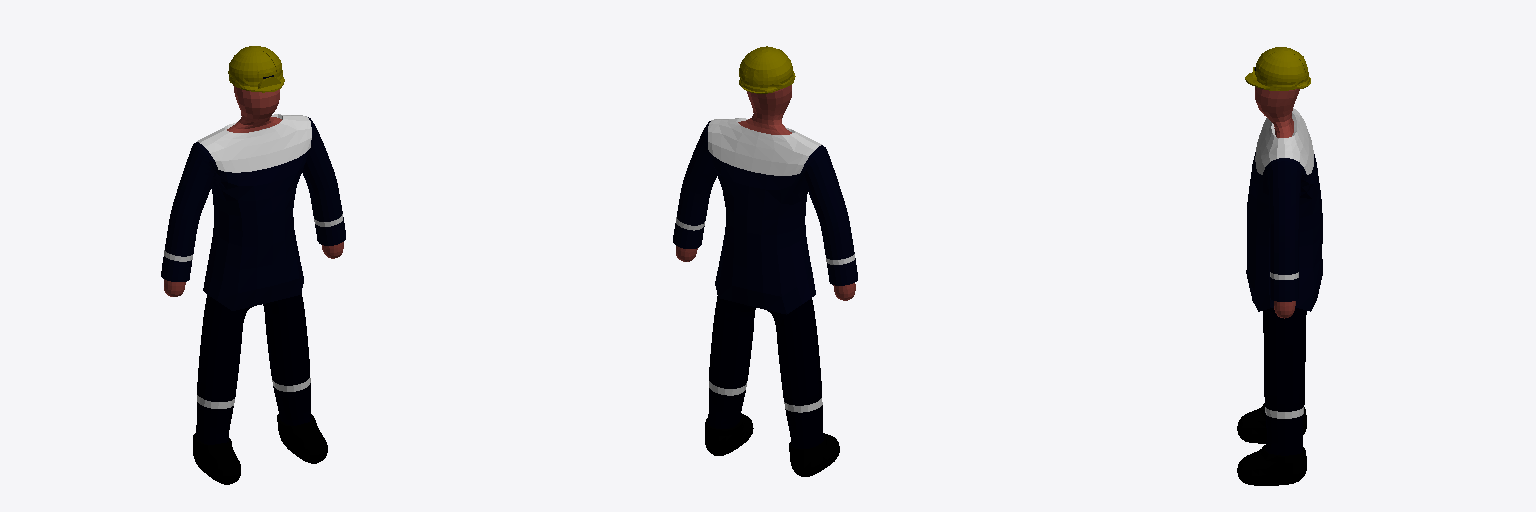
The model's file is sanya.obj.
3 views of the same model, side by side, from view 1: azimuth 30°, elevation 25°; view 2: azimuth 150°, elevation 25°; view 3: azimuth 270°, elevation 25° (orthographic).
Visible parts, largest first — view 1: top, pants, boots, dude, Cylinder; view 2: top, pants, boots, dude, Cylinder; view 3: top, pants, boots, Cylinder, dude.
Boxes of the visible parts, x1=… form: top: x1=161, y1=114, x2=345, y2=310; pants: x1=196, y1=293, x2=311, y2=444; boots: x1=193, y1=414, x2=327, y2=484; dude: x1=164, y1=85, x2=343, y2=296; Cylinder: x1=228, y1=46, x2=284, y2=92; top: x1=673, y1=118, x2=857, y2=314; pants: x1=708, y1=296, x2=823, y2=448; boots: x1=705, y1=413, x2=839, y2=476; dude: x1=676, y1=85, x2=855, y2=300; Cylinder: x1=739, y1=46, x2=795, y2=93; top: x1=1246, y1=108, x2=1322, y2=311; pants: x1=1263, y1=308, x2=1306, y2=455; boots: x1=1237, y1=403, x2=1306, y2=485; Cylinder: x1=1245, y1=47, x2=1310, y2=90; dude: x1=1255, y1=87, x2=1299, y2=318.
Bounding box in the file's own units: 3.1 × 6.75 × 1.27.